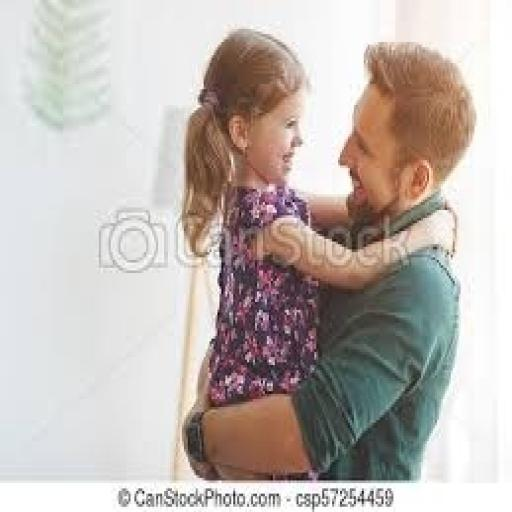hugging: (178, 26, 472, 480)
